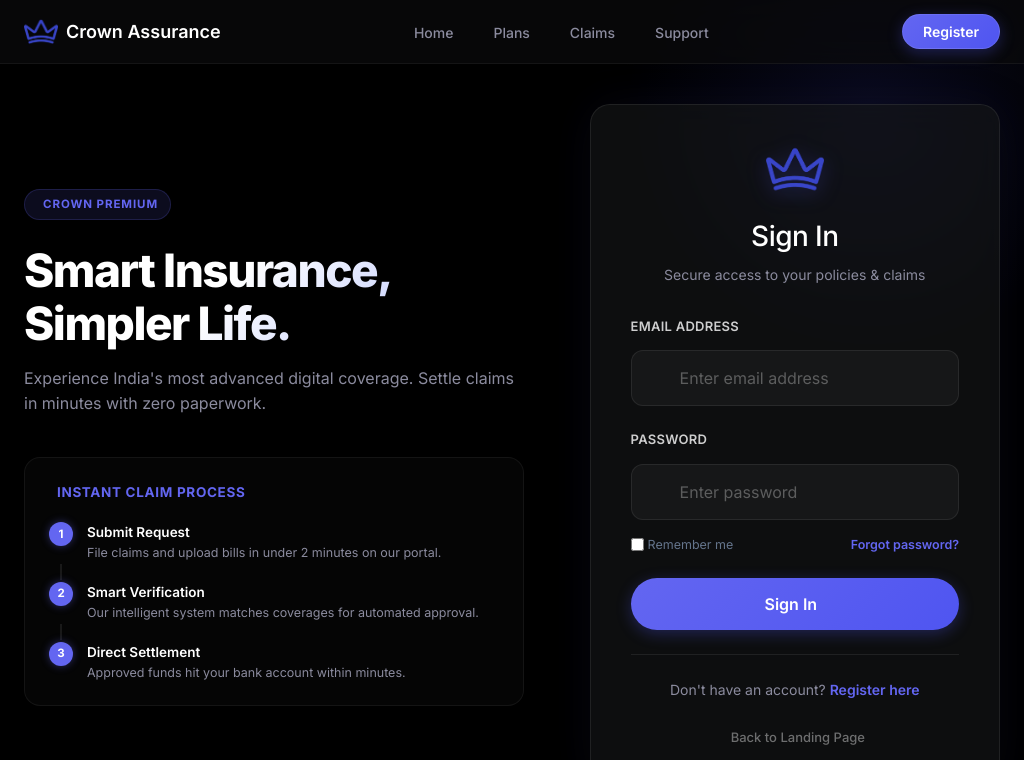
Test: Login Page › shows validation error for invalid email format
Type "invalid-email" into the field with placeholder "Enter email address" at (795, 378), box 631,350 -> 959,406
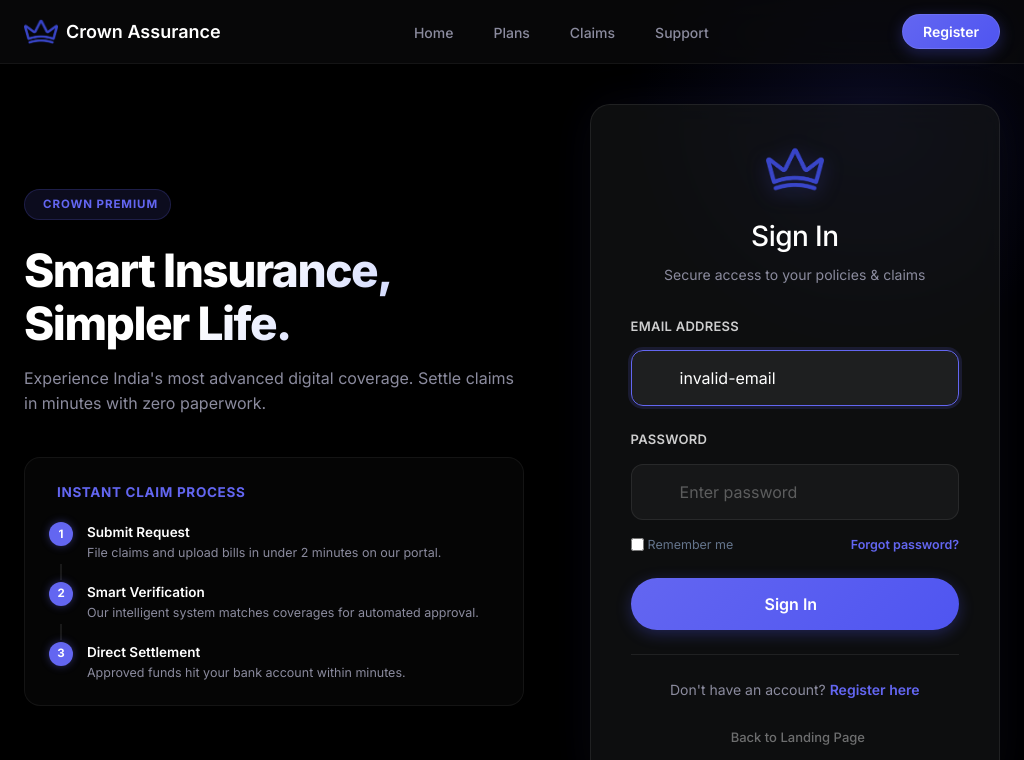
Type "ValidPass@123" into the password field with placeholder "Enter password" at (795, 492), box 631,464 -> 959,520
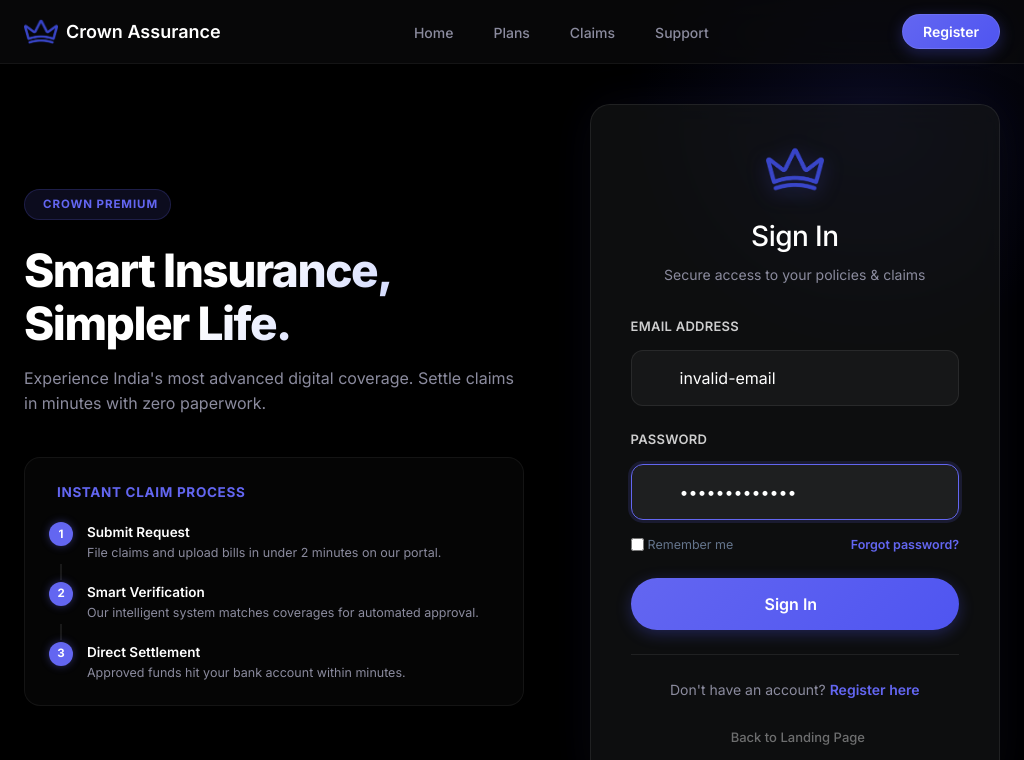
Click the button "Sign In" at (795, 604), box 631,578 -> 959,630
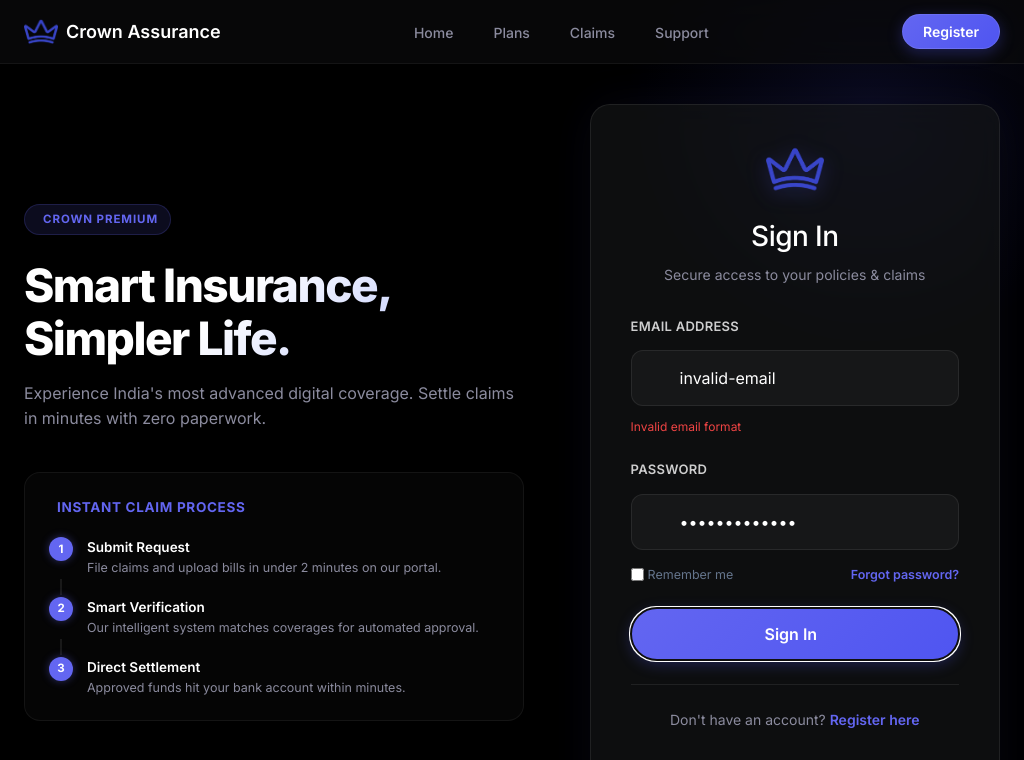
expect the text "Invalid email format" is shown: met, box 631,419 -> 741,434
